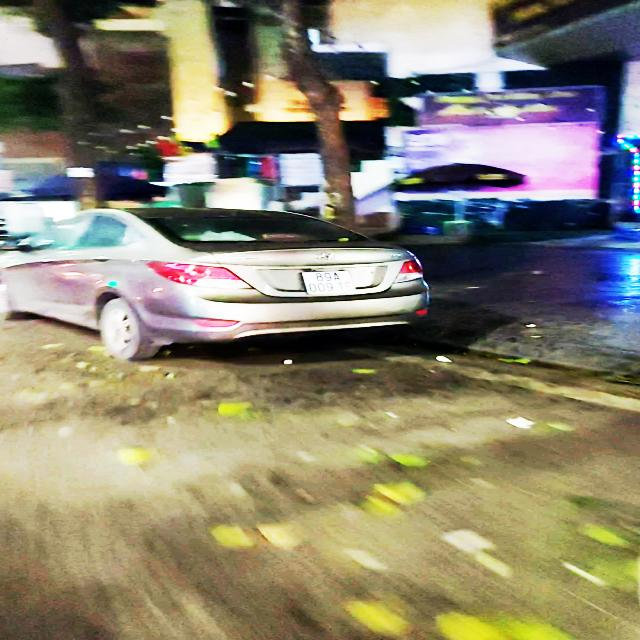license_plate: (302, 271, 357, 296)
